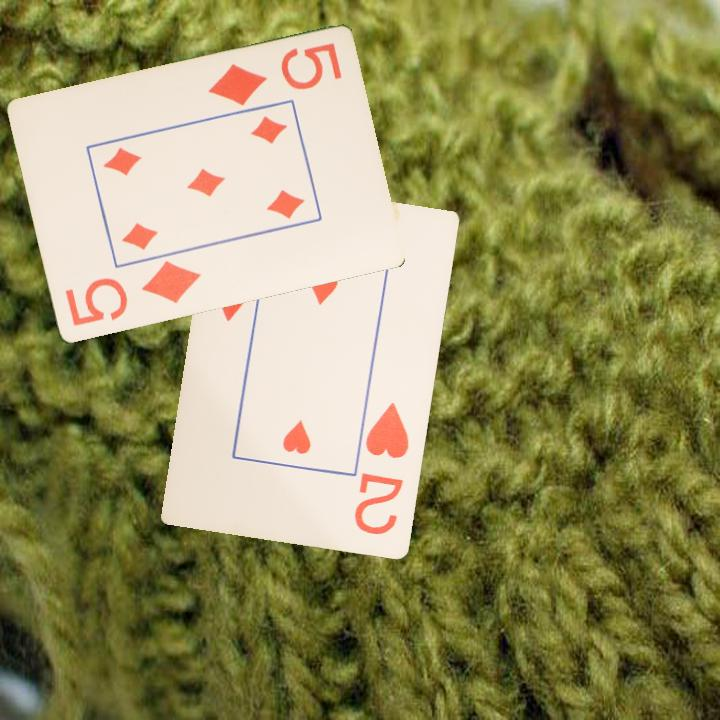2h: (351, 399, 413, 538)
5d: (61, 258, 204, 330), (204, 40, 345, 109)
